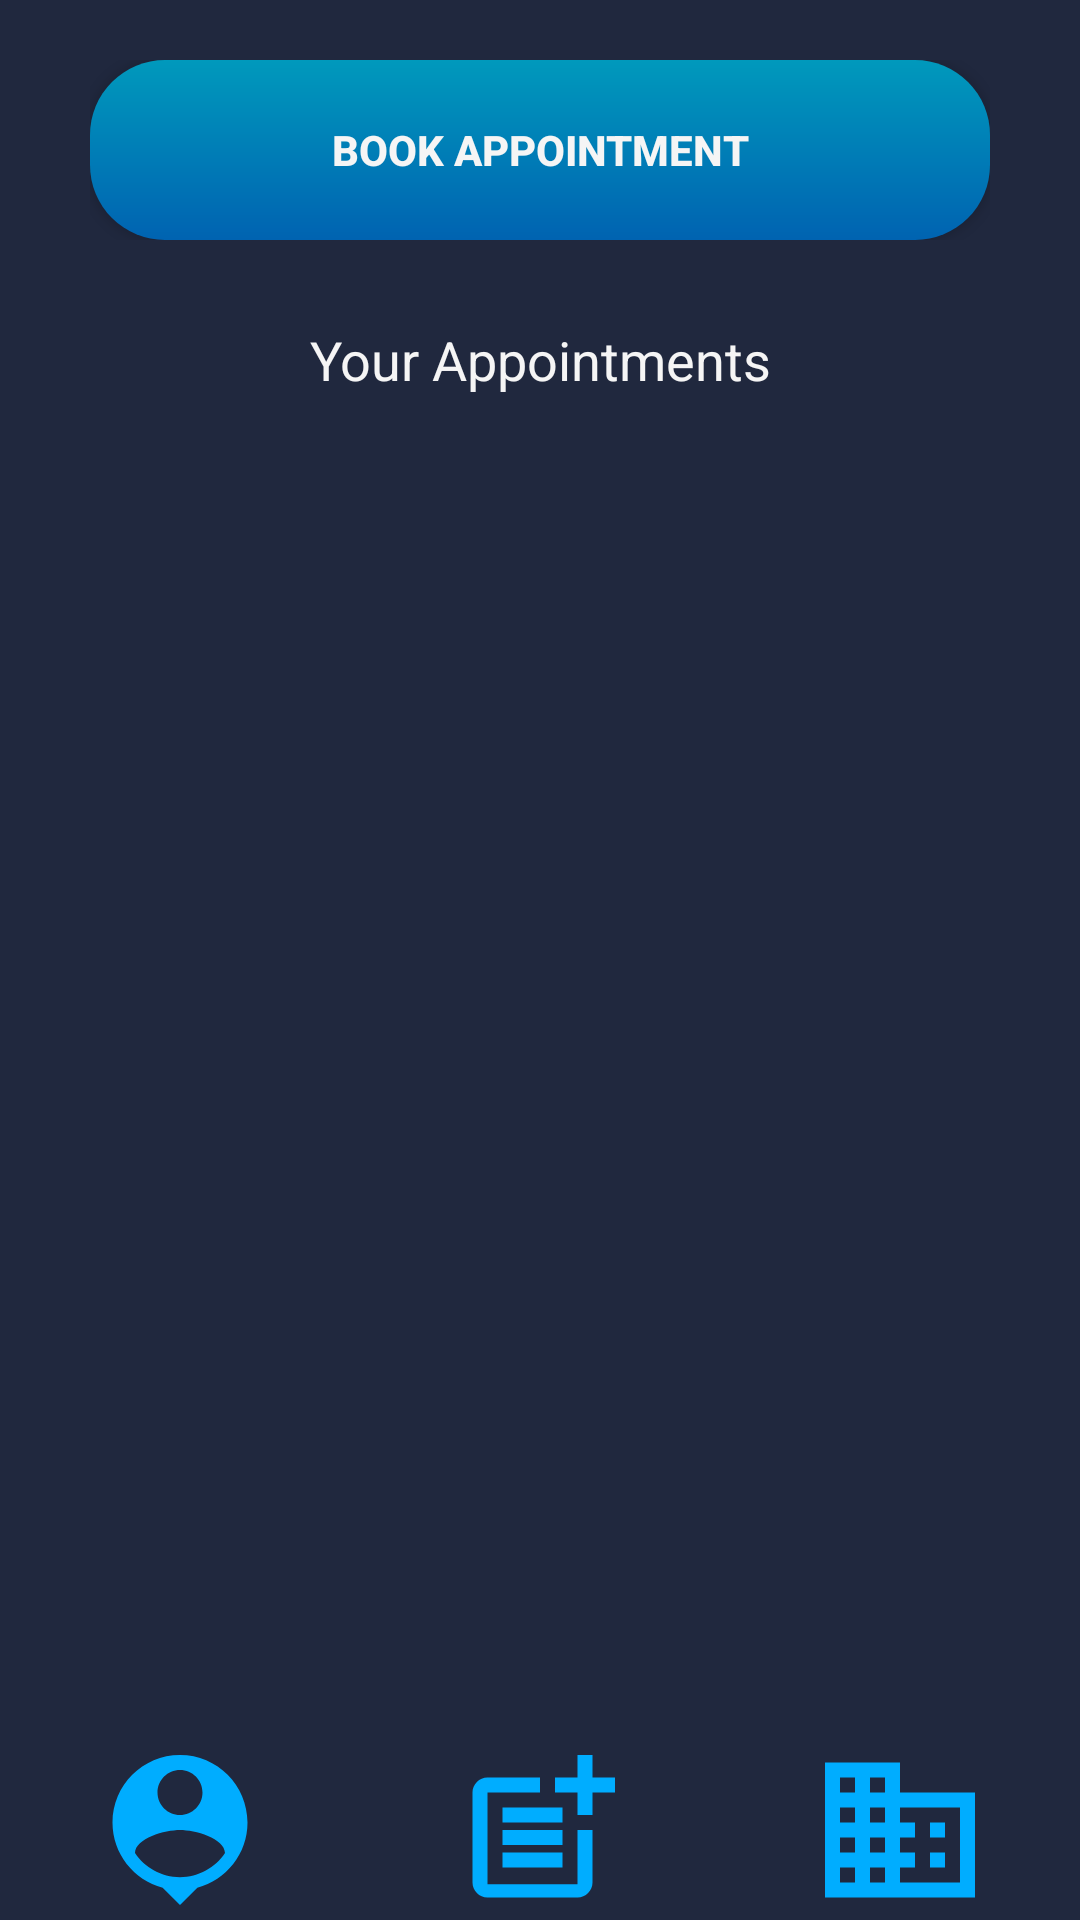

Icons on this 1080x1920 Android screen, each with its box as {"left": x1, "top": y1, "right": x2, "bottom": y2}:
Booking Page ImageView: {"left": 472, "top": 1755, "right": 615, "bottom": 1898}
Business Needs ImageView: {"left": 825, "top": 1762, "right": 975, "bottom": 1898}
Personal Page Image: {"left": 112, "top": 1755, "right": 248, "bottom": 1905}
